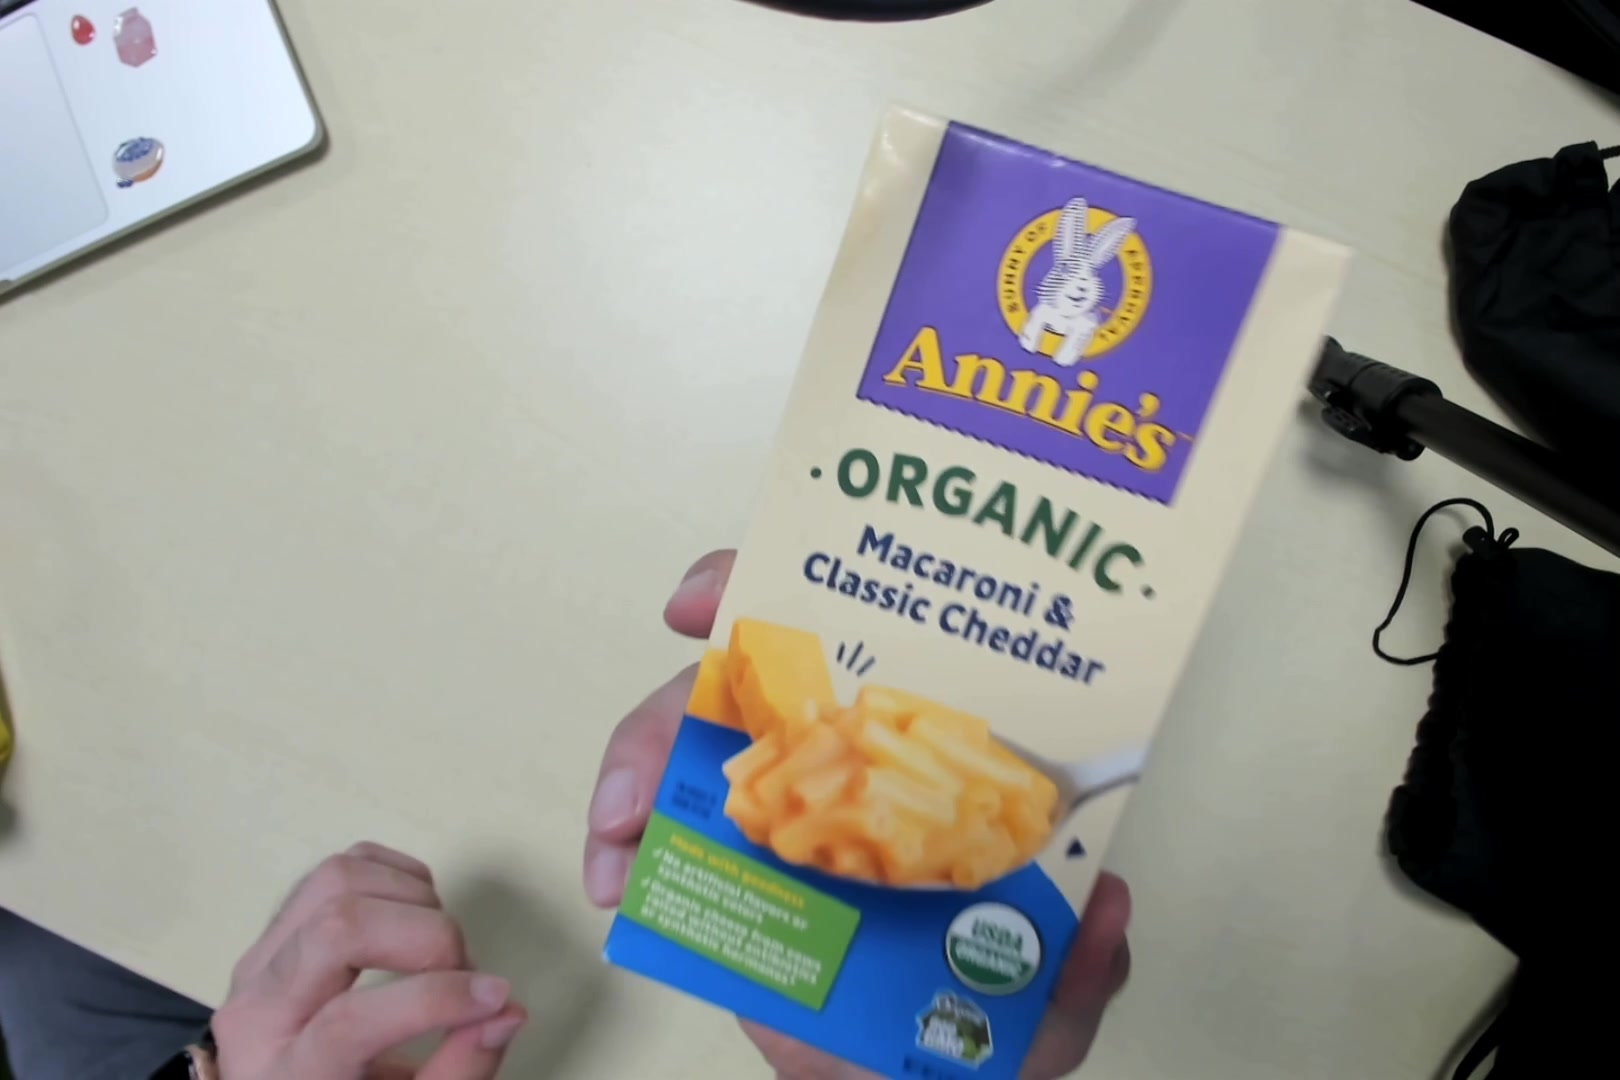InstantMeals_200-299g_NonHalal_NonHealthy: (610, 128, 1339, 1080)
